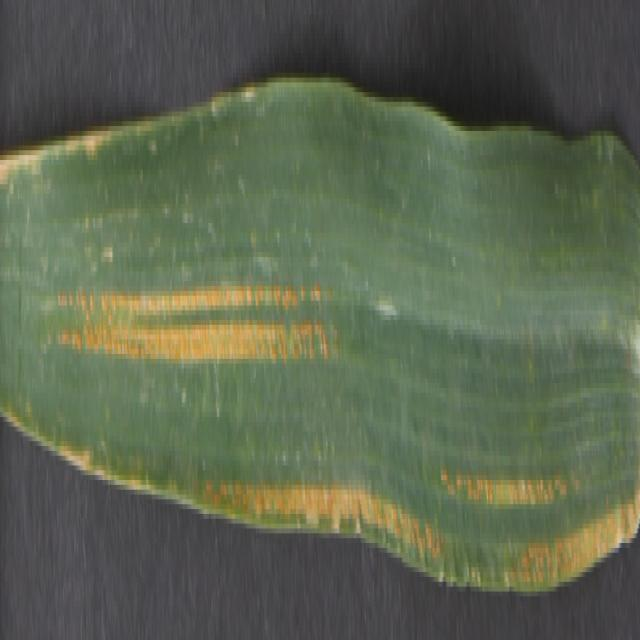leaf rust: (56, 208, 336, 417), (459, 388, 640, 591), (208, 451, 450, 577)
